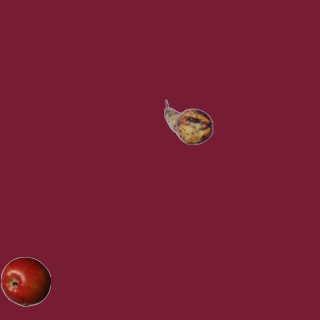Apple Braeburn: (0, 256, 50, 306)
Pear Abate: (163, 97, 213, 147)
